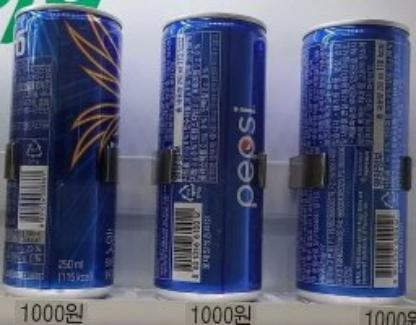Can: (293, 17, 411, 302), (154, 13, 268, 304), (6, 4, 119, 294)
